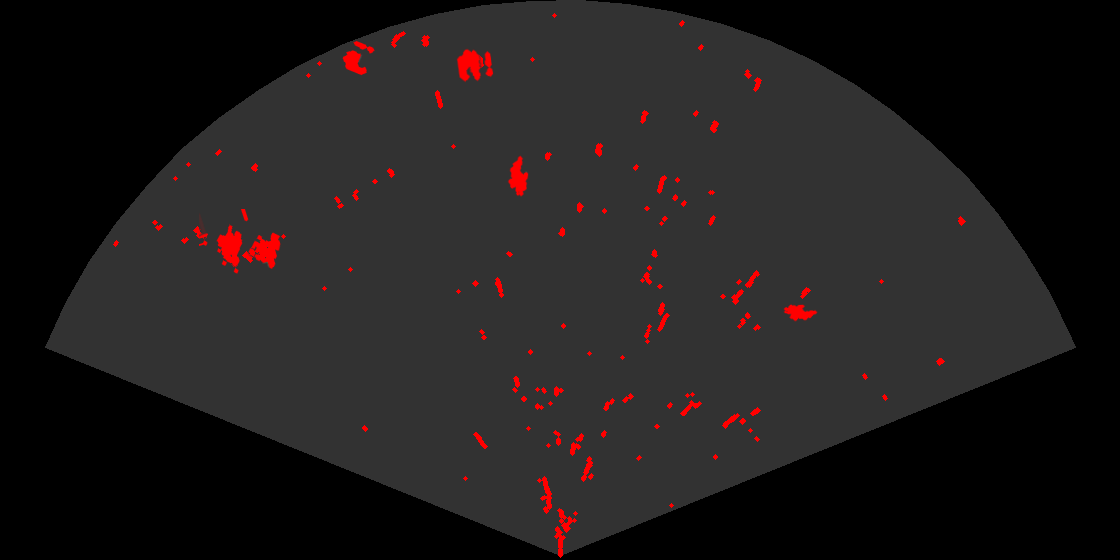AUV: (506, 154, 530, 198), (782, 303, 819, 323)
ball: (455, 47, 495, 84), (341, 39, 376, 77)
cage: (199, 209, 282, 275)
